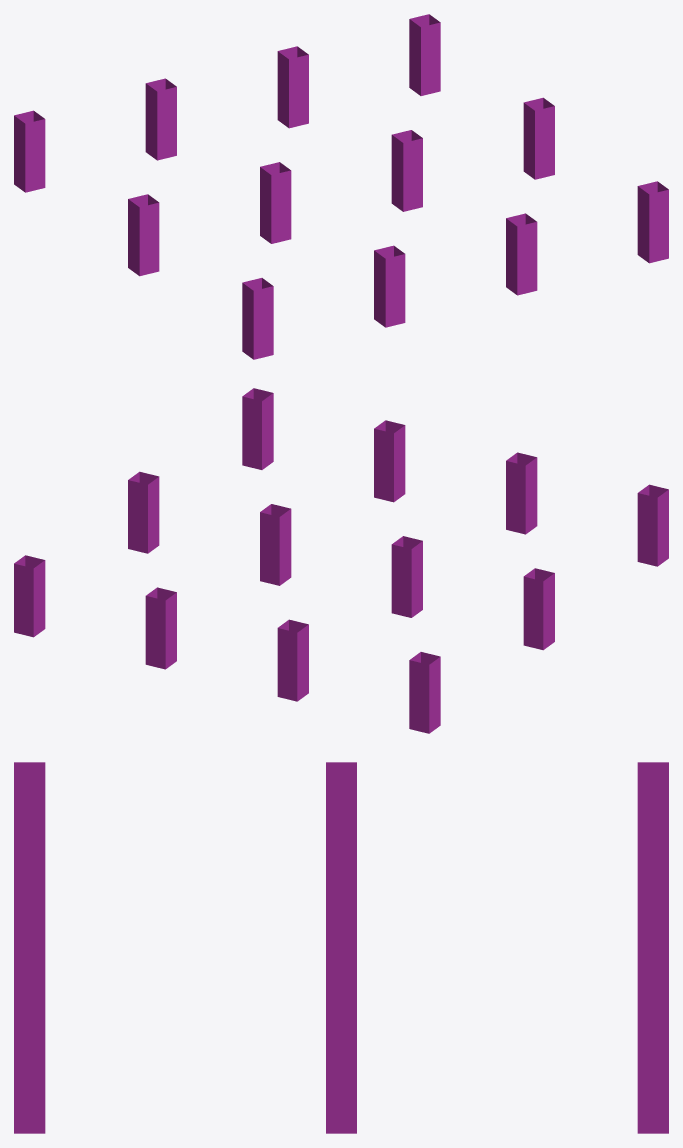
File: Fillar.fbx
The picture shows the model from 3 angles, top to bottom: view 1: azimuth 30°, elevation 25°; view 2: azimuth 150°, elevation 25°; view 3: azimuth 270°, elevation 25°; orthographic projection. The views are drawn at different scales.
Visible parts, largest first — view 1: Fillar019, Fillar020, Fillar021, Fillar022, Fillar018, Fillar023, Fillar001, Fillar016, Fillar017, Fillar024, Fillar025, Fillar026; view 2: Fillar019, Fillar020, Fillar021, Fillar022, Fillar001, Fillar026, Fillar016, Fillar017, Fillar018, Fillar023, Fillar024, Fillar025; view 3: Fillar018, Fillar026, Fillar022, Fillar001, Fillar016, Fillar023, Fillar024, Fillar017, Fillar025, Fillar019, Fillar020, Fillar021.
Part boxes in pixels (x1,y1,x2,y2): Fillar019: (128, 194, 159, 276); Fillar020: (260, 162, 291, 243); Fillar021: (391, 130, 422, 211); Fillar022: (523, 97, 554, 179); Fillar018: (409, 14, 440, 95); Fillar023: (242, 278, 273, 359); Fillar001: (14, 110, 45, 192); Fillar016: (145, 78, 176, 160); Fillar017: (277, 46, 308, 128); Fillar024: (374, 245, 405, 327); Fillar025: (506, 213, 537, 295); Fillar026: (637, 181, 668, 263); Fillar019: (523, 568, 554, 650); Fillar020: (391, 536, 422, 617); Fillar021: (260, 504, 291, 585); Fillar022: (128, 471, 159, 553); Fillar001: (409, 652, 440, 733); Fillar026: (242, 388, 273, 469); Fillar016: (277, 619, 308, 701); Fillar017: (145, 587, 176, 669); Fillar018: (14, 555, 45, 637); Fillar023: (637, 484, 668, 566); Fillar024: (506, 452, 537, 534); Fillar025: (374, 420, 405, 502); Fillar018: (637, 1026, 668, 1133); Fillar026: (14, 1026, 45, 1133); Fillar022: (326, 1026, 356, 1133); Fillar001: (637, 762, 668, 850); Fillar016: (637, 850, 668, 938); Fillar023: (14, 762, 45, 850); Fillar024: (14, 850, 45, 938); Fillar017: (637, 938, 668, 1025); Fillar025: (14, 938, 45, 1025); Fillar019: (326, 762, 356, 850); Fillar020: (326, 850, 356, 938); Fillar021: (326, 938, 356, 1025).
Bounding box in the file's own units: 31500 × 5000 × 31500.
